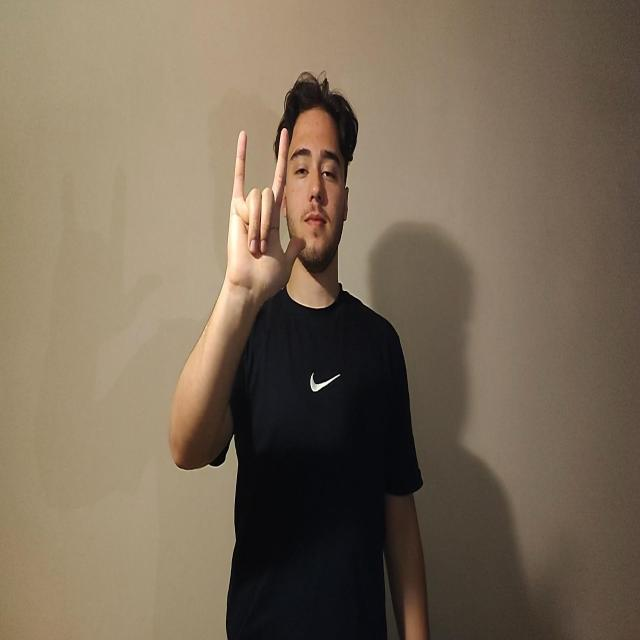iloveyou: (225, 125, 306, 308)
